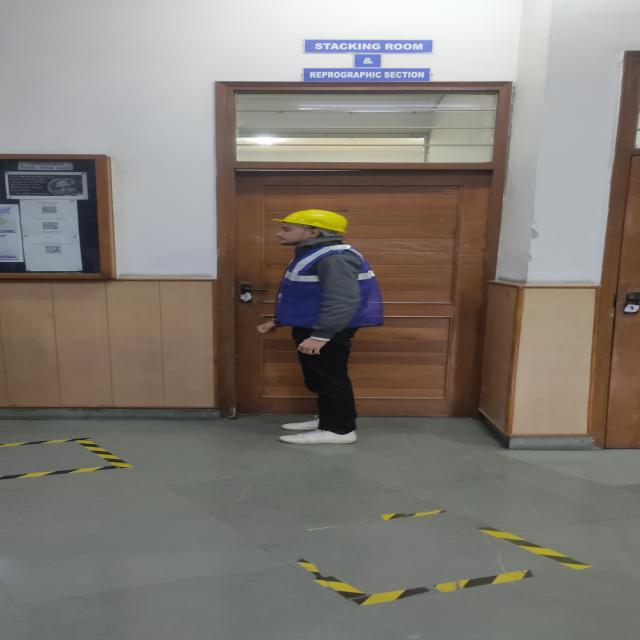safe: (256, 209, 384, 444)
